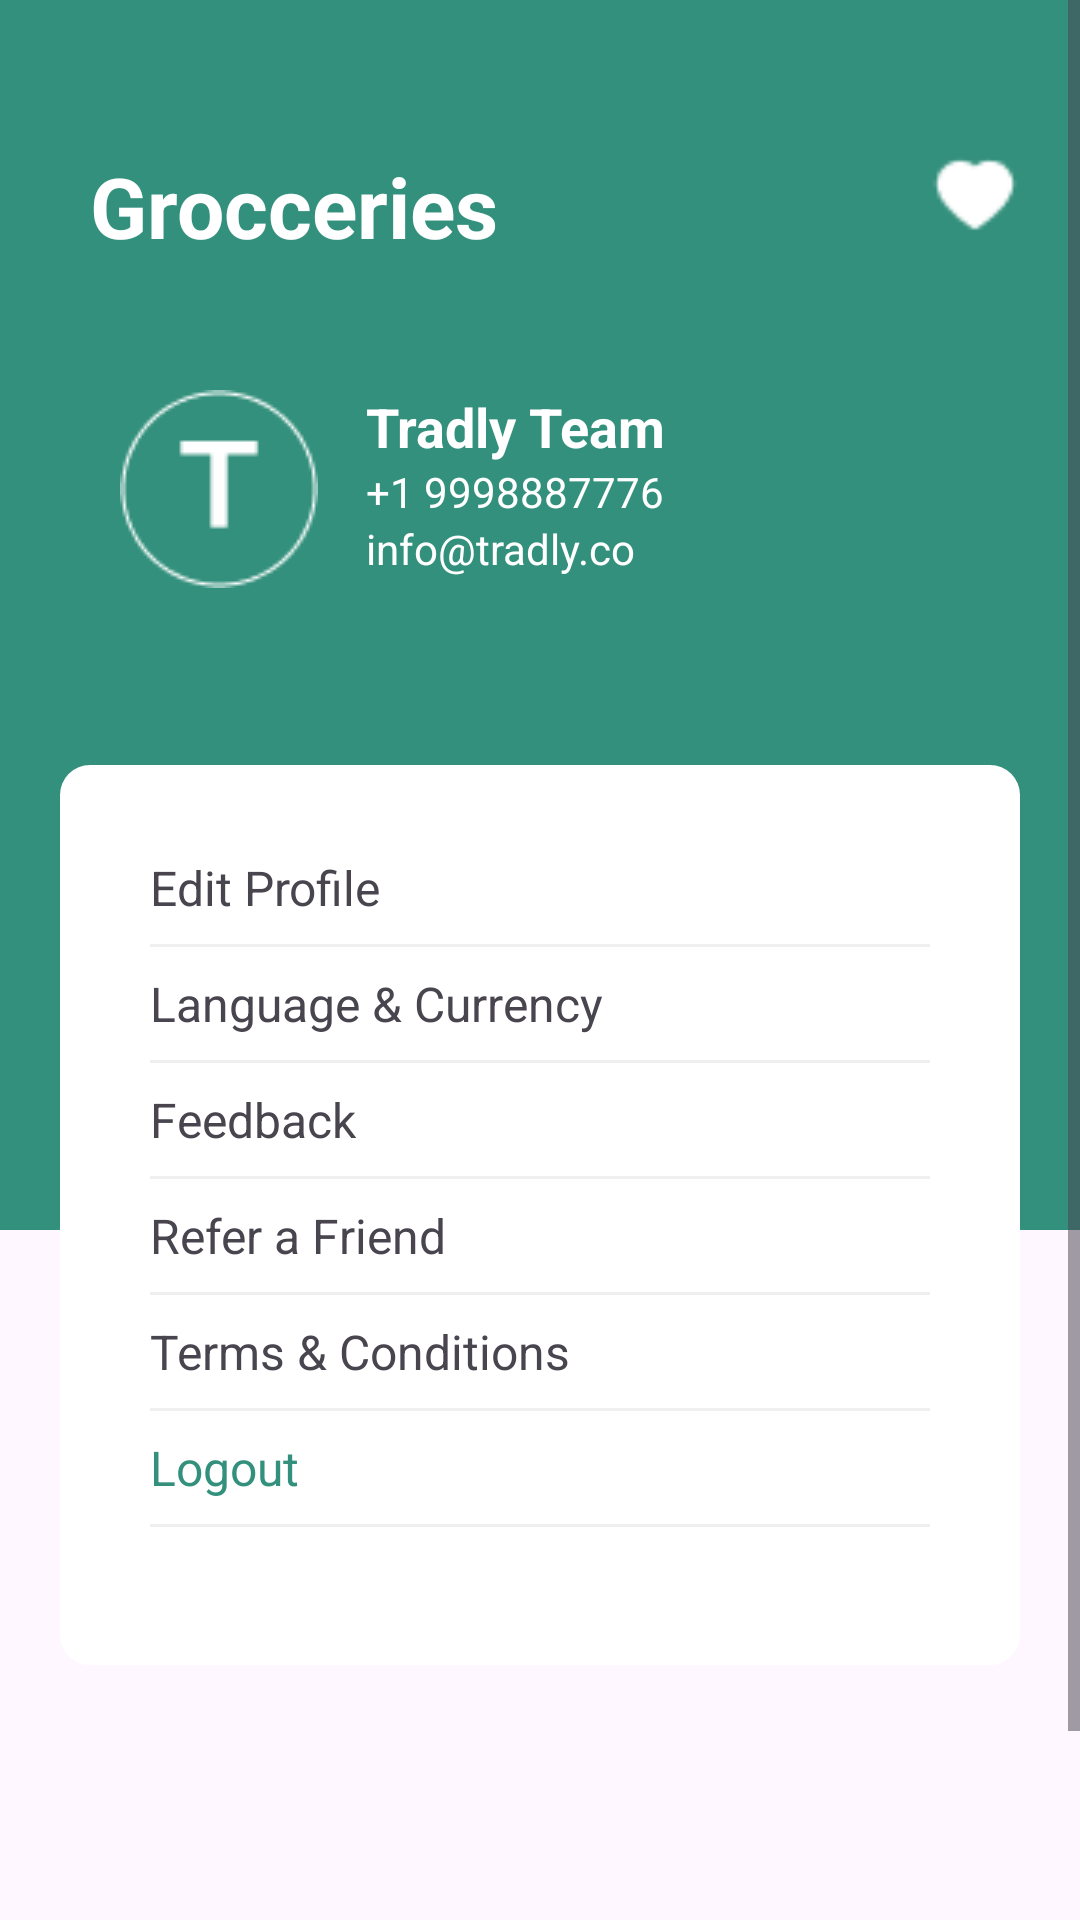

Icons on this 1080×1920 Android screen, each with its box as (x1, y1, x2, y2):
love: (935, 160, 1015, 230)
